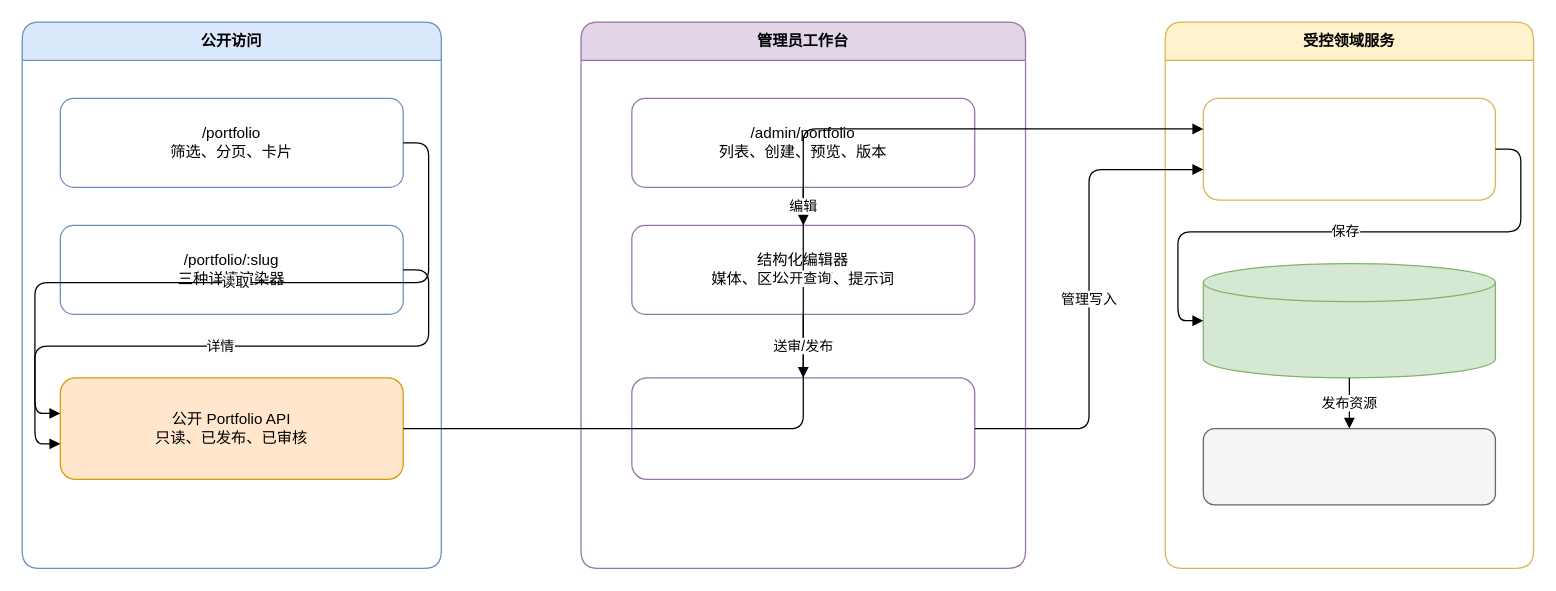
Some shapes in this 1556 by 591 pixel diagram are drawn without their labels. Each missing label, with the centre of its shape:
Portfolio / Media / Block Resource / PromptEntry: (1348,320)
受控资产存储 仅公开派生资源: (1348,466)
审核与发布状态机 draft（审核状态变化）→ published: (803,428)
认证、权限、输入校验 审计日志、URL 白名单: (1348,148)
